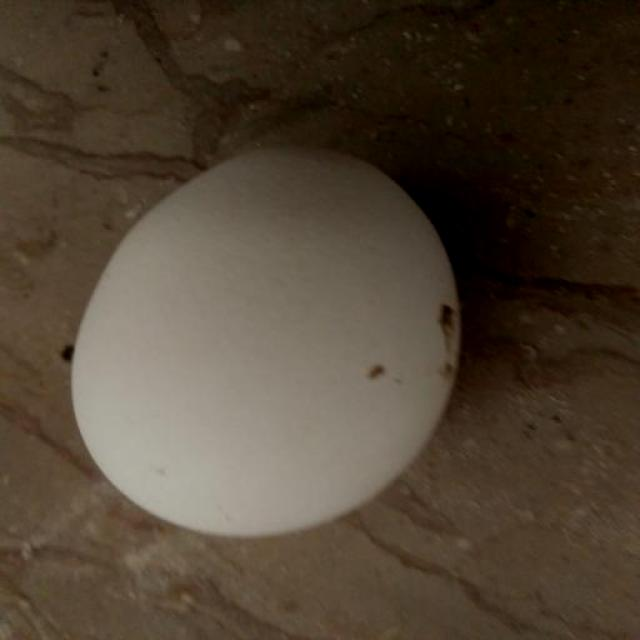telur: (66, 147, 464, 536)
